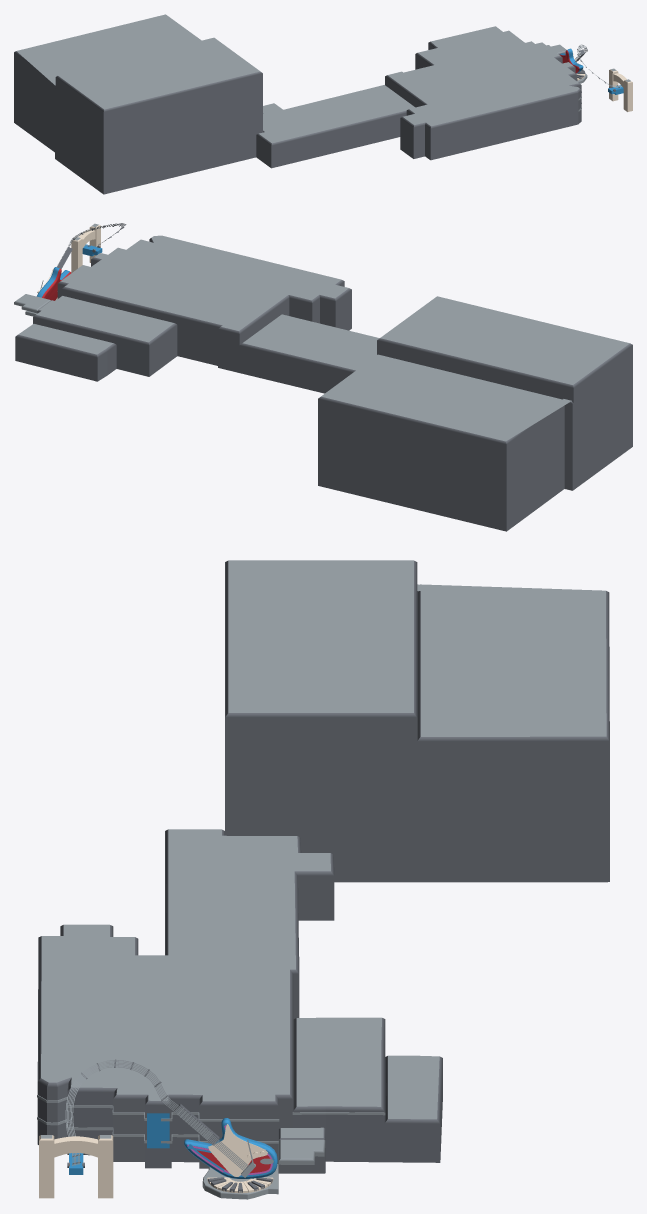
Rendered from wdw-rock-n-roller-coaster.glb.
3 renders of one model, top to bottom at view 1: azimuth 30°, elevation 25°; view 2: azimuth 150°, elevation 25°; view 3: azimuth 270°, elevation 25°, orthographic. The views are drawn at different scales.
Parts seen in each view (by area): view 1: Rock 'n' Roller Coaster Starring The Muppets; view 2: Rock 'n' Roller Coaster Starring The Muppets; view 3: Rock 'n' Roller Coaster Starring The Muppets.
Boxes of the visible parts, left/top/right/bottom form: Rock 'n' Roller Coaster Starring The Muppets: left=14, top=14, right=632, bottom=194; Rock 'n' Roller Coaster Starring The Muppets: left=14, top=223, right=632, bottom=531; Rock 'n' Roller Coaster Starring The Muppets: left=37, top=560, right=609, bottom=1199.
Size of the model in its own units: 170 by 28 by 86.5.
